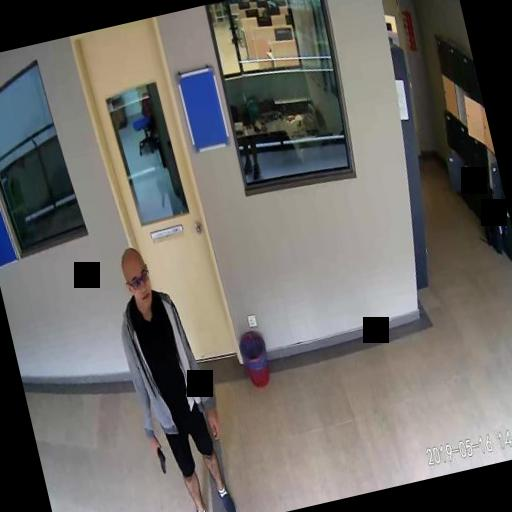Handgun: (152, 440, 168, 474)
